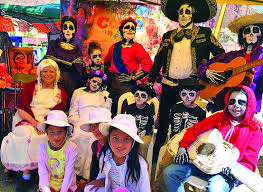person: (92, 112, 149, 189)
